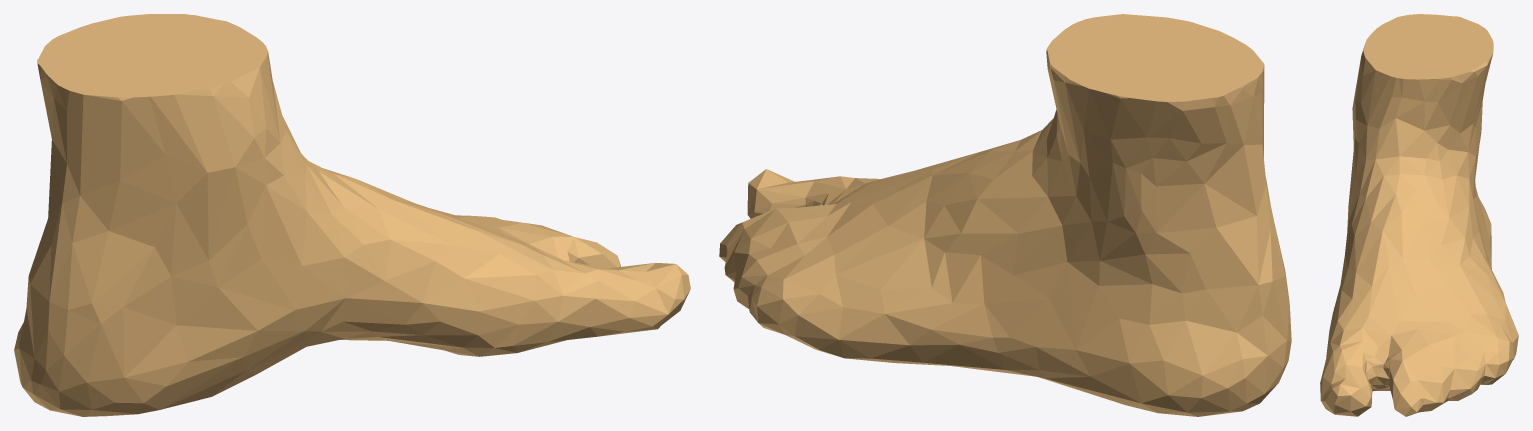
The model's file is Pie.fbx.
3 renders of one model, left to right at view 1: azimuth 30°, elevation 25°; view 2: azimuth 150°, elevation 25°; view 3: azimuth 270°, elevation 25°, orthographic. The views are drawn at different scales.
Parts seen in each view (by area): view 1: Foot_low-poly; view 2: Foot_low-poly; view 3: Foot_low-poly.
Boxes of the visible parts, x1,y1,x2,y2 form: Foot_low-poly: [14, 14, 690, 416]; Foot_low-poly: [719, 14, 1291, 416]; Foot_low-poly: [1320, 14, 1518, 416].
Bounding box in the file's own units: 22400 × 11799 × 9513.
